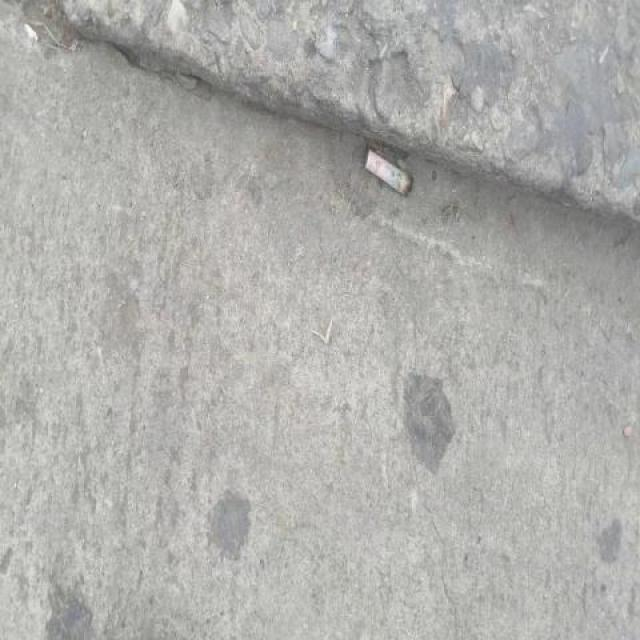non-organic waste: (358, 143, 419, 201)
